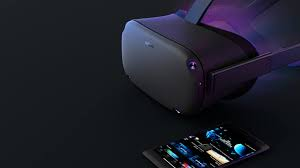oculus: (121, 14, 268, 114)
